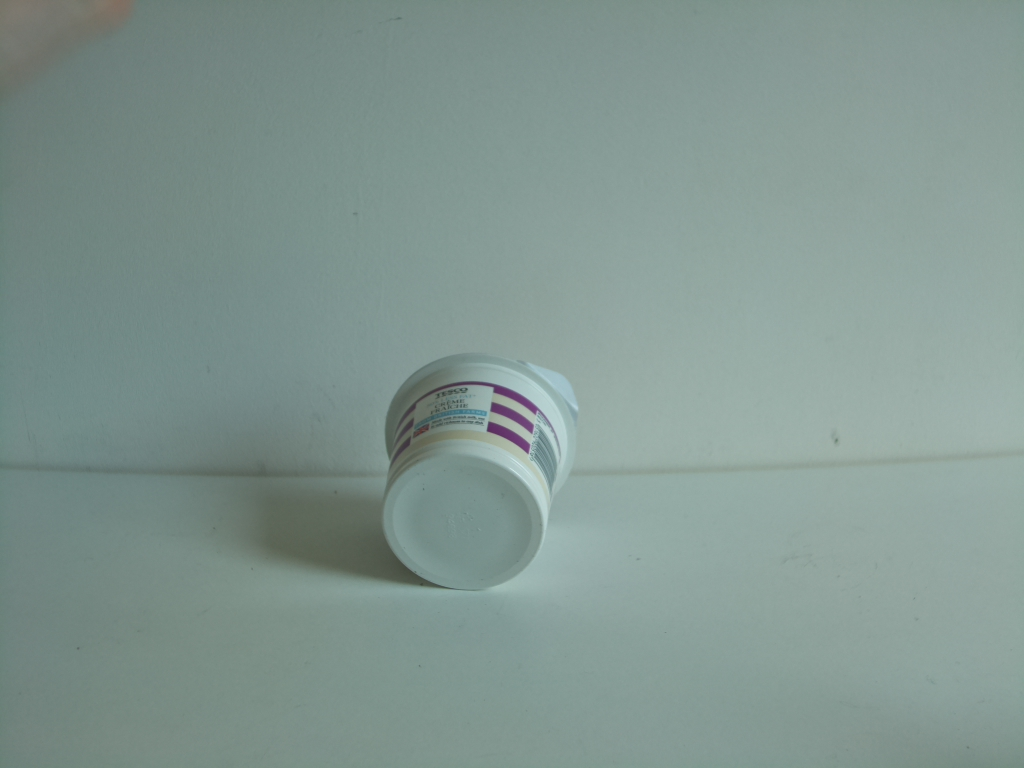cream: (375, 347, 587, 601)
